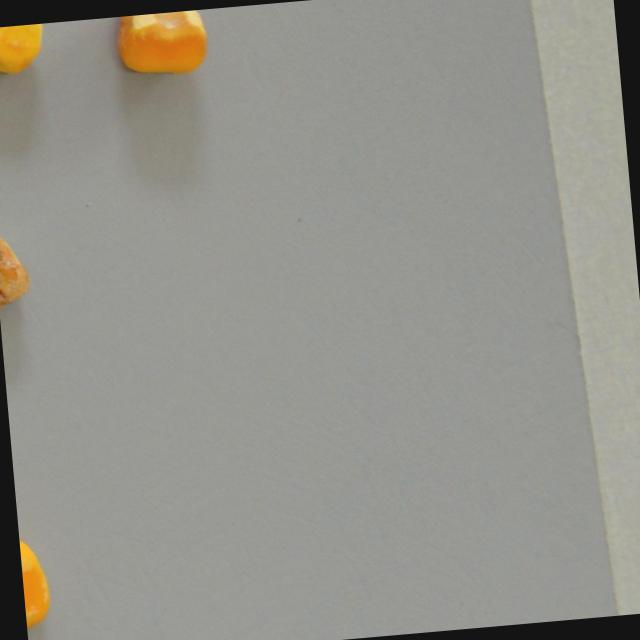dañado: (110, 8, 225, 93), (0, 210, 53, 327), (17, 527, 65, 640), (0, 21, 71, 86)
